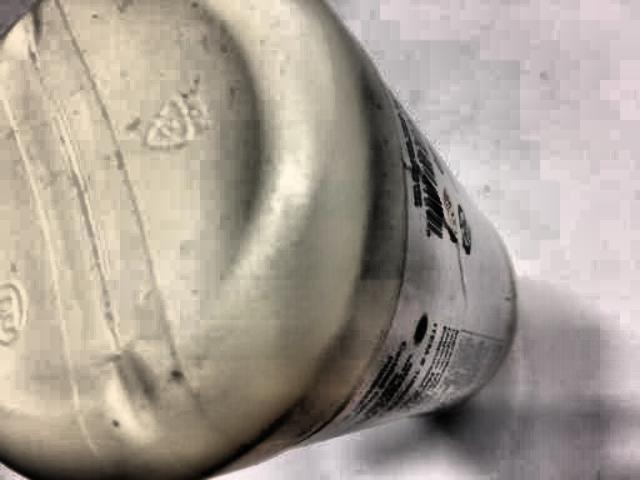Plastic: (0, 1, 534, 480)
